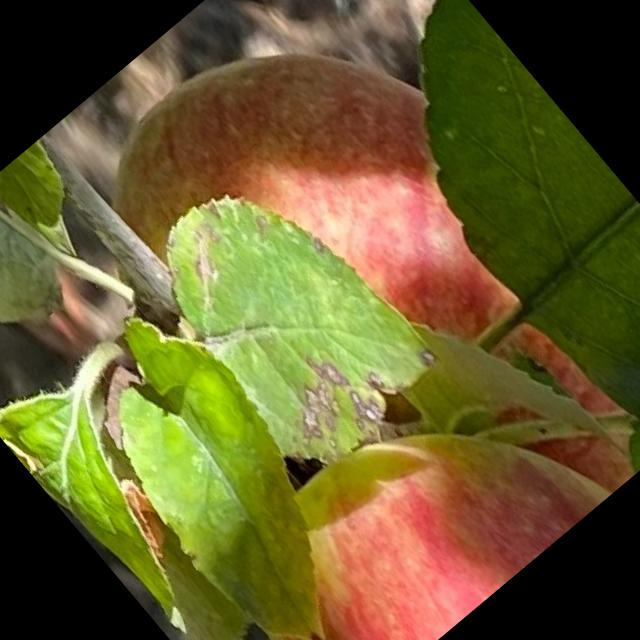Apples: (45, 0, 639, 639), (166, 336, 612, 639)
